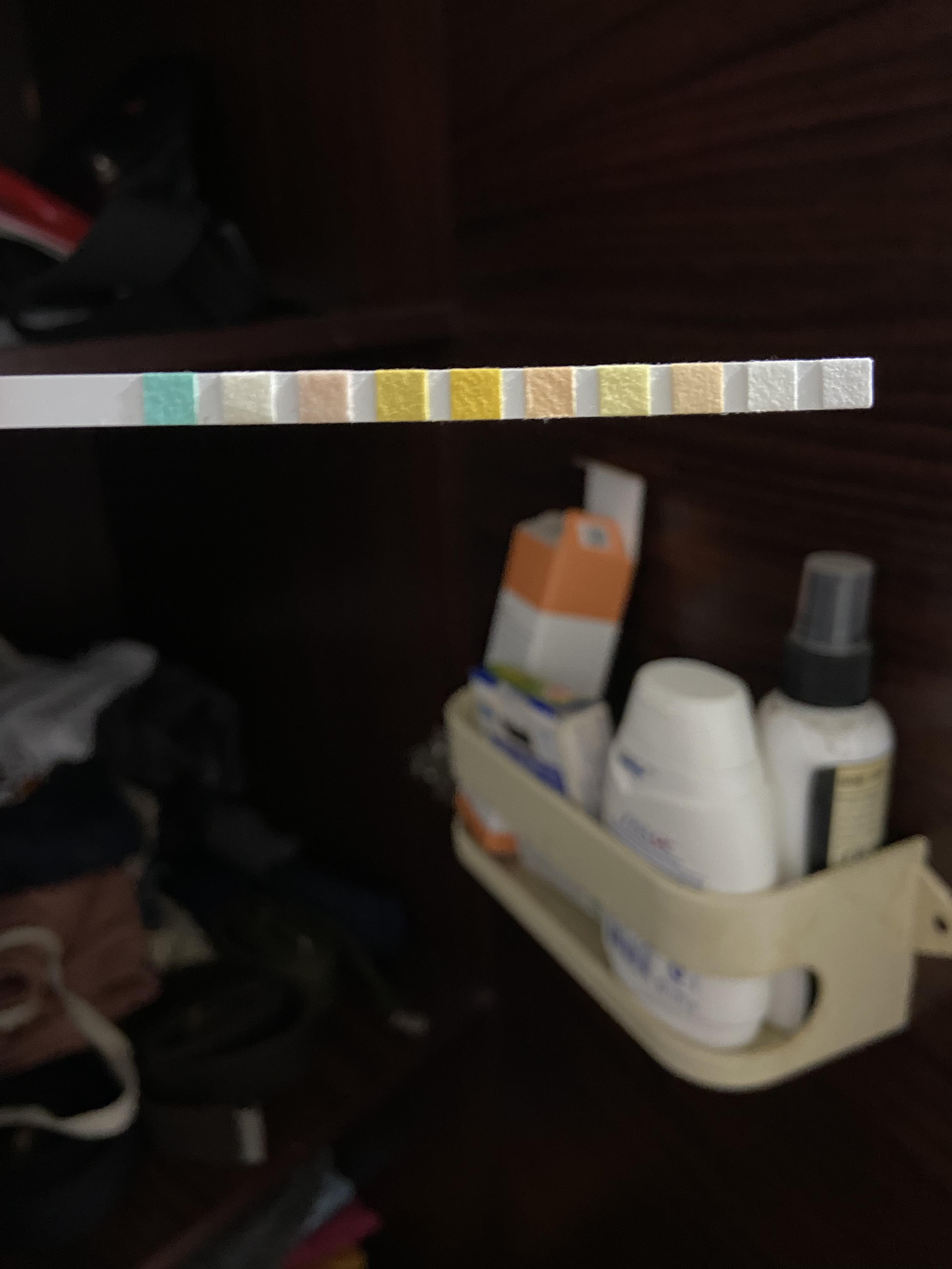Bilirubin: (223, 376, 273, 423)
Blood: (452, 369, 497, 419)
Glucose: (142, 375, 195, 424)
Ketone: (300, 373, 349, 423)
Leukocytes: (824, 360, 870, 408)
Nitrite: (749, 362, 796, 410)
Protein: (601, 365, 648, 416)
SpGravity: (380, 372, 427, 421)
Urobilinogen: (674, 365, 721, 412)
pH: (529, 369, 574, 417)
strip: (1, 359, 872, 429)
